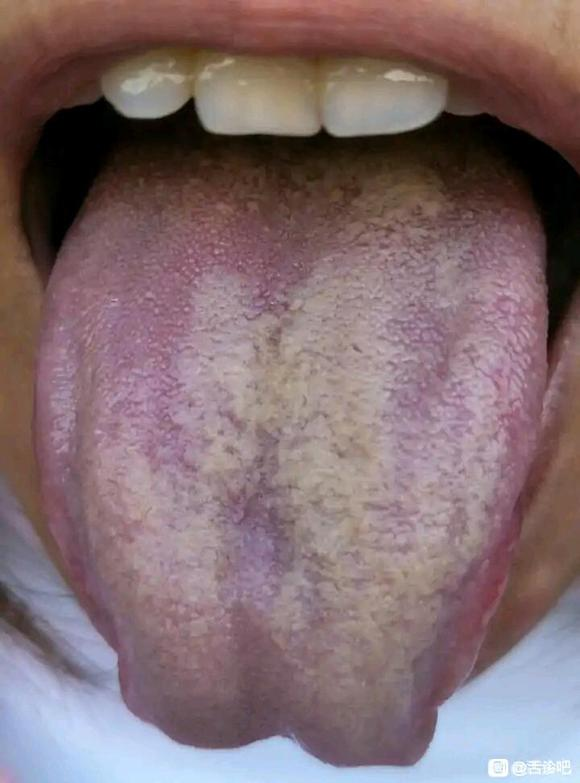gandanao: (37, 235, 133, 657)
huangtaishe: (34, 137, 548, 768)
xinfeiao: (195, 690, 363, 771)
zishe: (34, 137, 548, 768)
